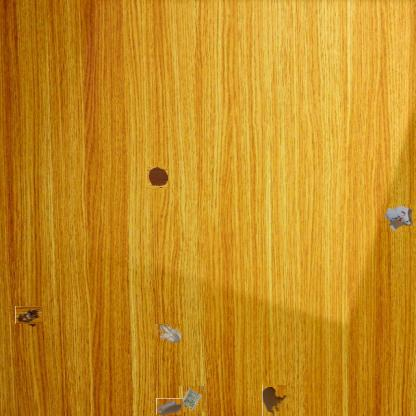dirty: (384, 204, 416, 232), (180, 386, 206, 412), (18, 304, 40, 327), (156, 324, 182, 342), (156, 398, 183, 415)
liquid: (262, 384, 287, 416), (147, 167, 168, 188)
